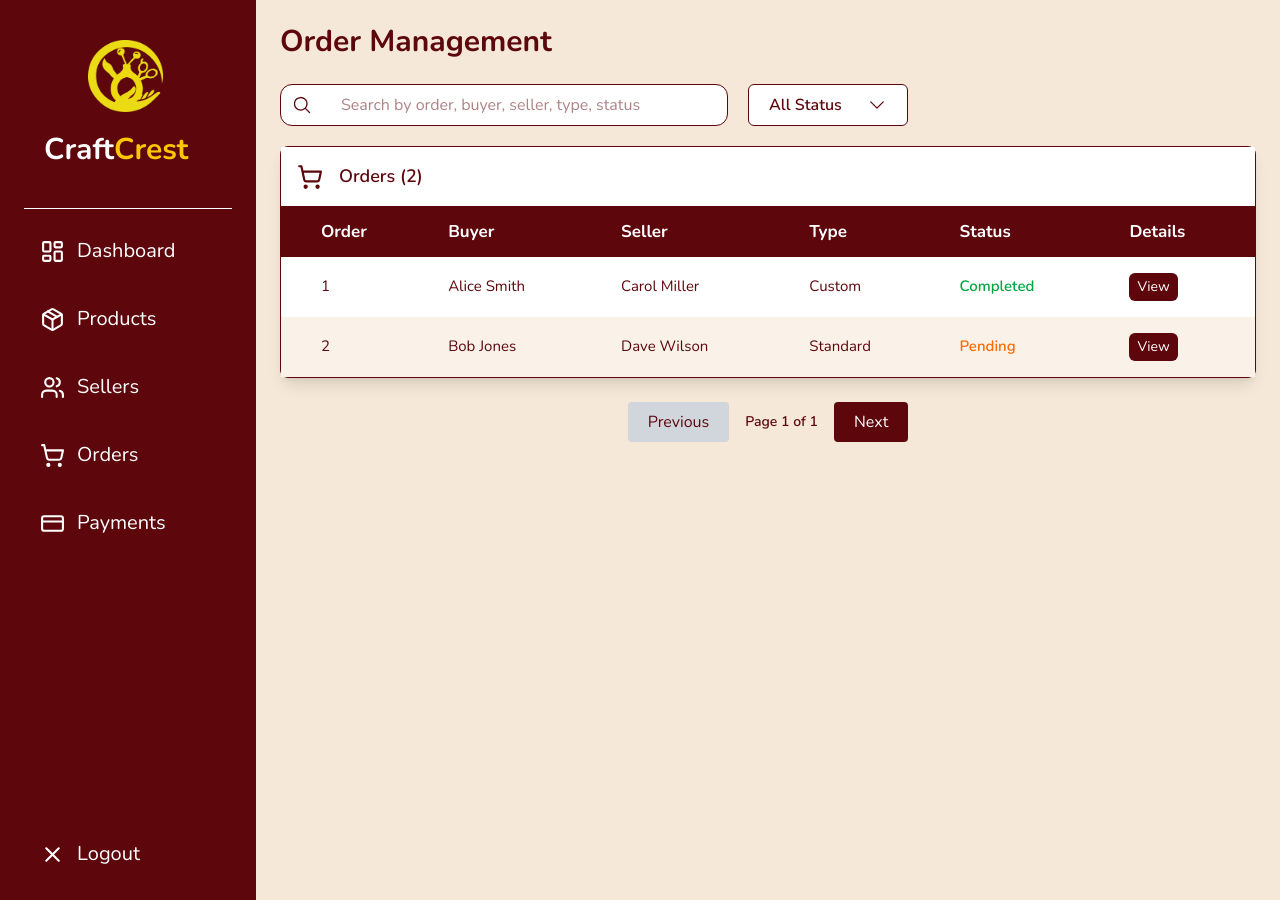
Test: OrdersPage › opens order modal when view button clicked and closes when modal closed
The width and height of the screenshot is (1280, 900).
Click the button "View" in the row of "Alice Smith".
click(1154, 286)  # box [1129,272,1178,300]
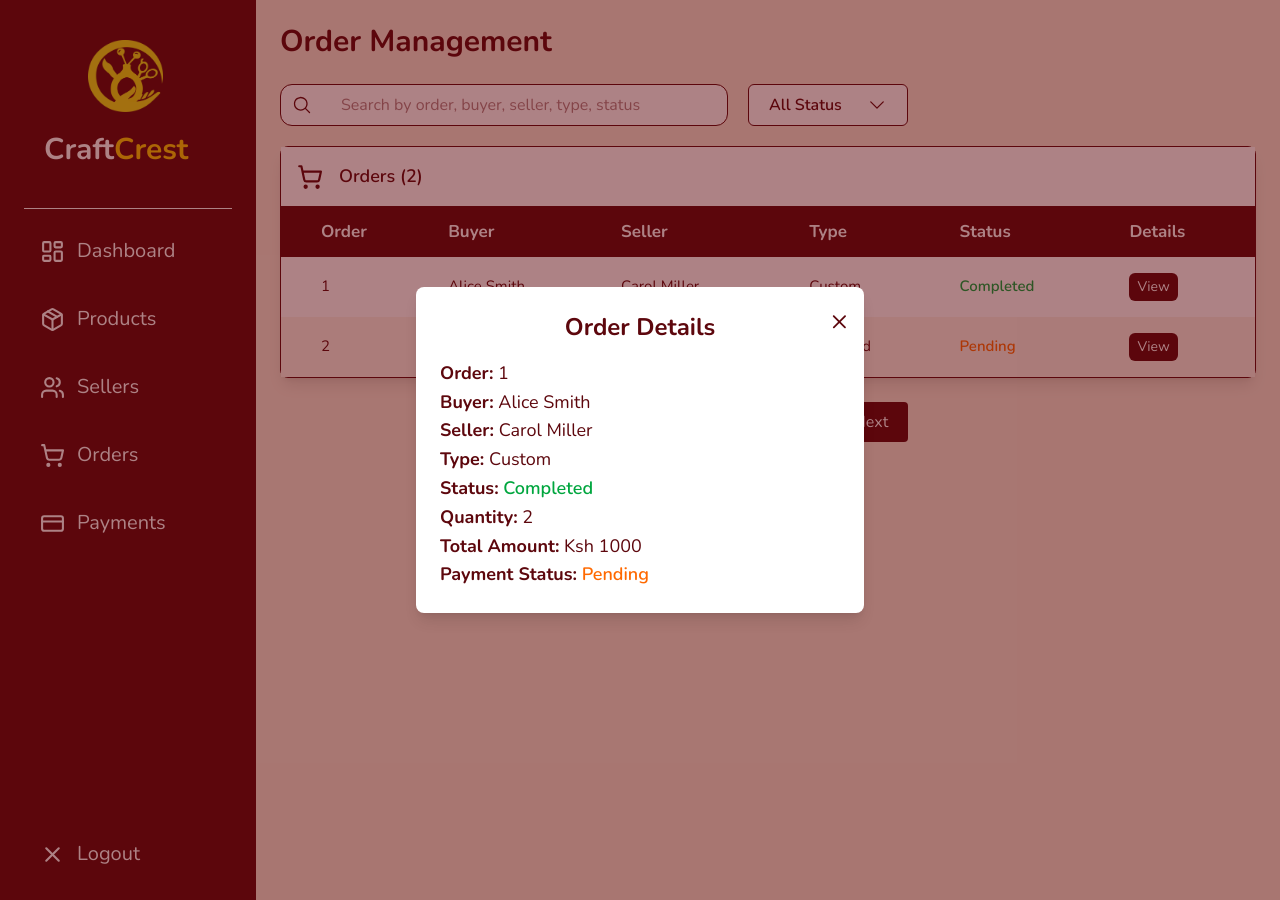
Expected: the heading "Order Details" is shown, [565,311,715,343]
Click the button named "close".
click(839, 321)  # box [823,295,856,347]
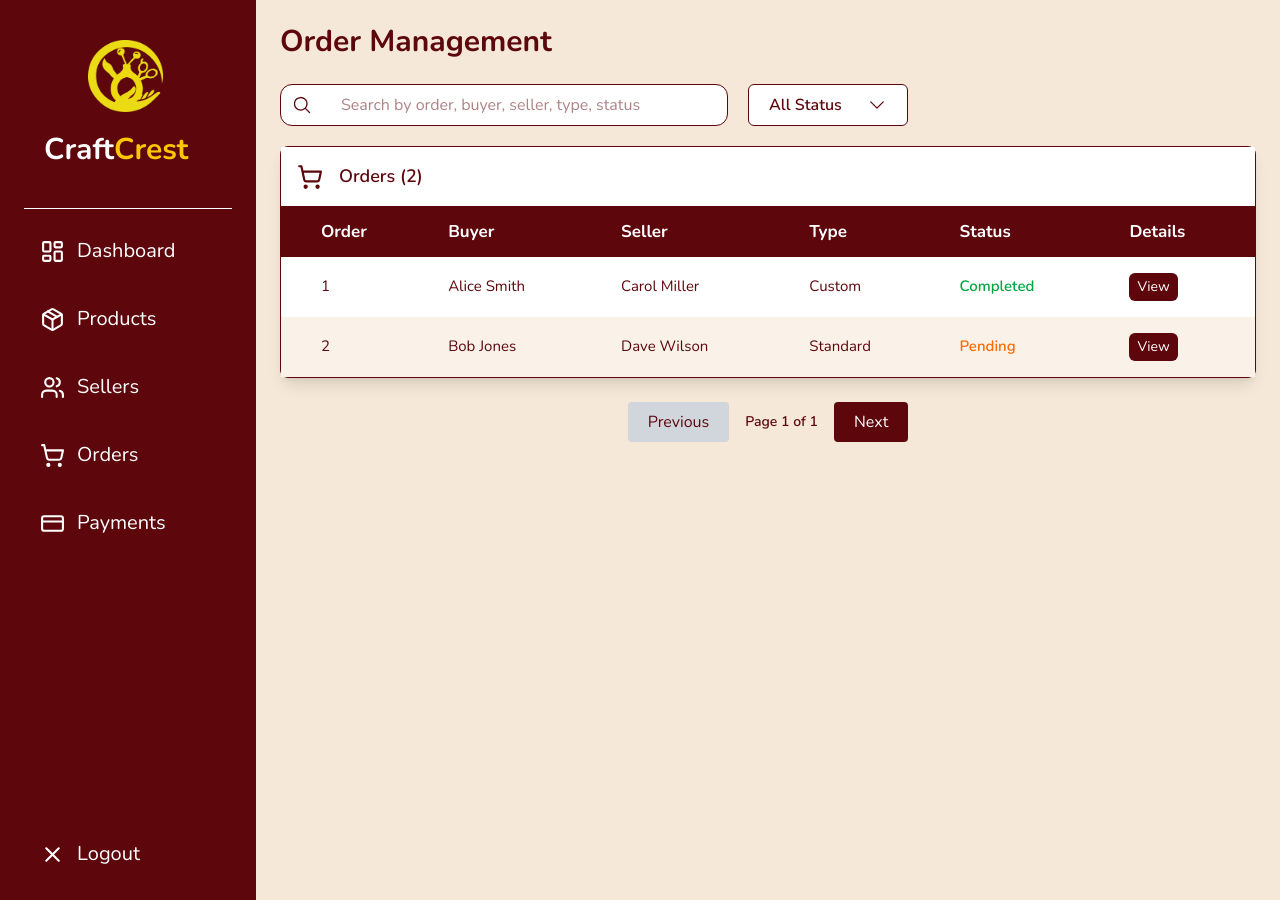
Expected: the heading "Order Details" is gone
